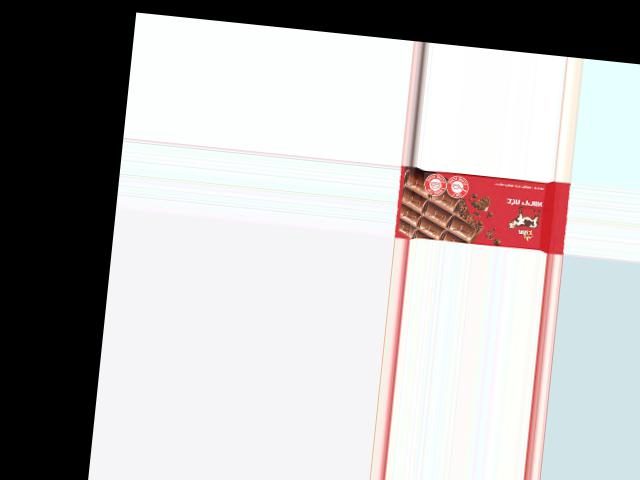chocolate: (396, 165, 571, 254)
